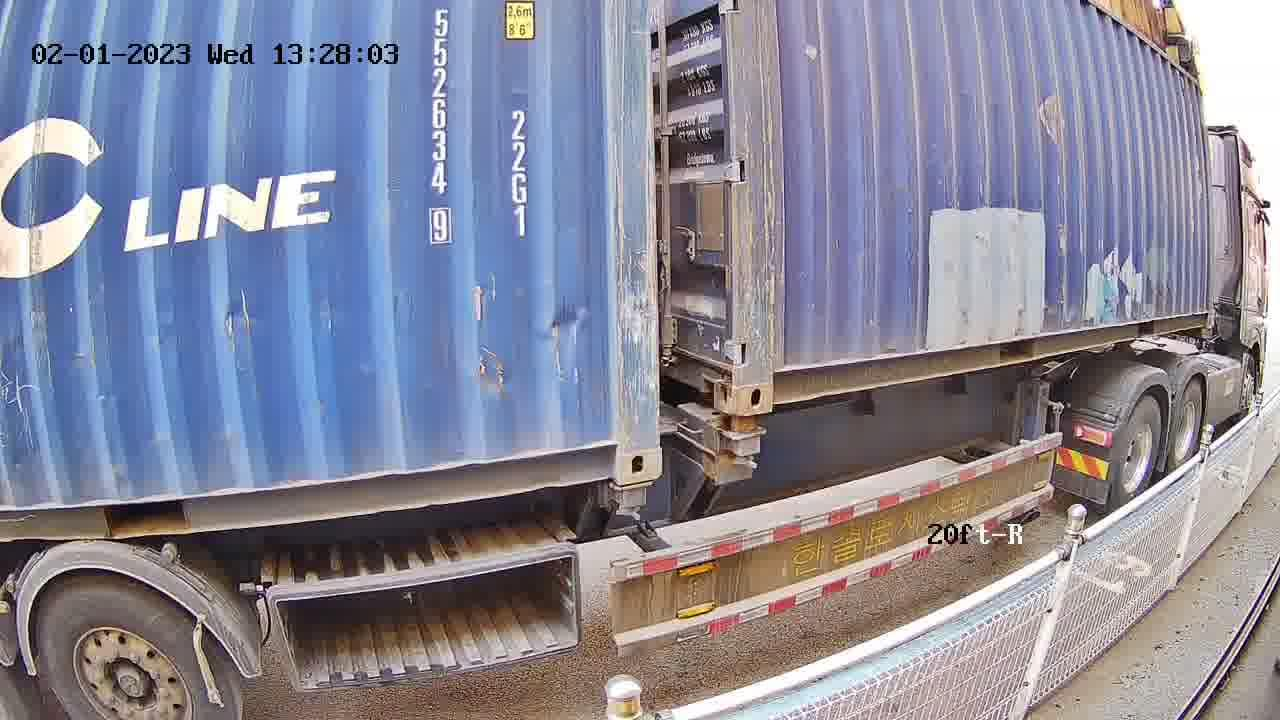Cone: (724, 415, 766, 471), (607, 484, 656, 523)
Hole_L: (737, 336, 802, 416)
Hole_R: (573, 404, 660, 484), (692, 331, 736, 416)
Tire: (37, 579, 233, 719), (1109, 397, 1163, 510), (1168, 384, 1204, 479)
